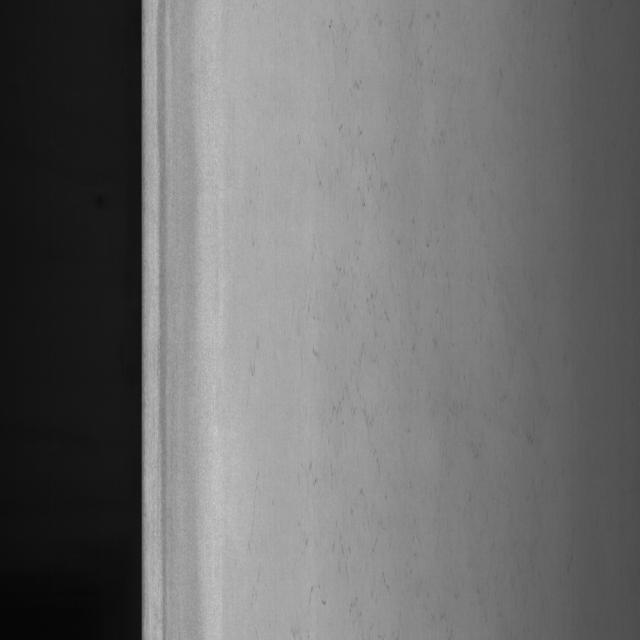inclusion: (308, 38, 440, 466)
